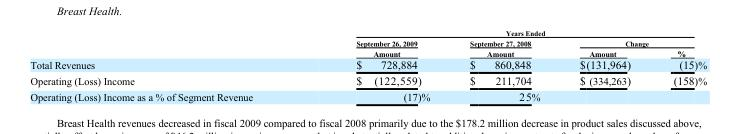table: (29, 28, 706, 102)
table column: (29, 28, 303, 102), (303, 28, 449, 102), (449, 28, 559, 102), (559, 28, 651, 102), (651, 28, 706, 102)
table column header: (29, 28, 706, 57)
table row: (29, 72, 706, 88), (29, 57, 706, 72), (29, 88, 706, 102), (29, 37, 706, 47), (29, 47, 706, 57), (29, 28, 706, 37)
table spanning cell: (303, 28, 706, 37), (303, 37, 449, 57), (449, 37, 559, 57), (559, 37, 706, 47)
